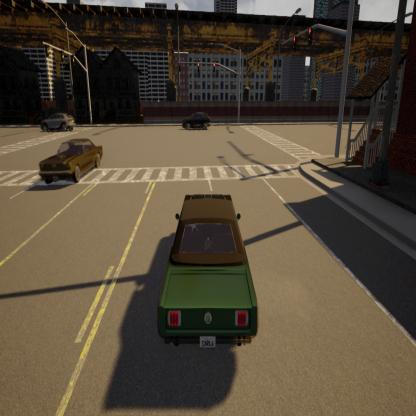Cars: (150, 184, 264, 361), (37, 134, 104, 193), (36, 108, 77, 136), (182, 109, 213, 139)
